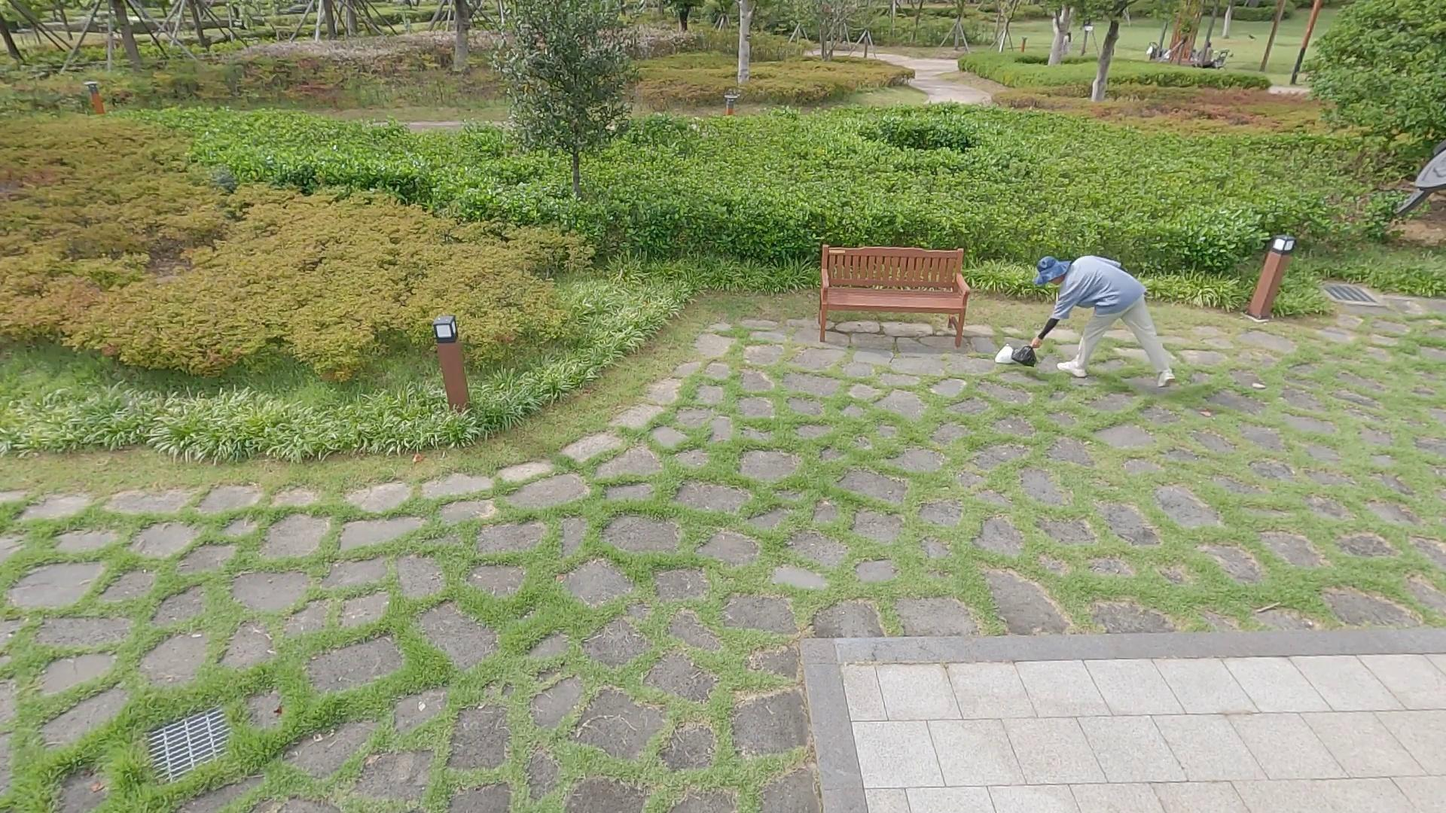person: (1024, 245, 1185, 400)
trash: (994, 344, 1016, 373), (1015, 343, 1038, 364)
